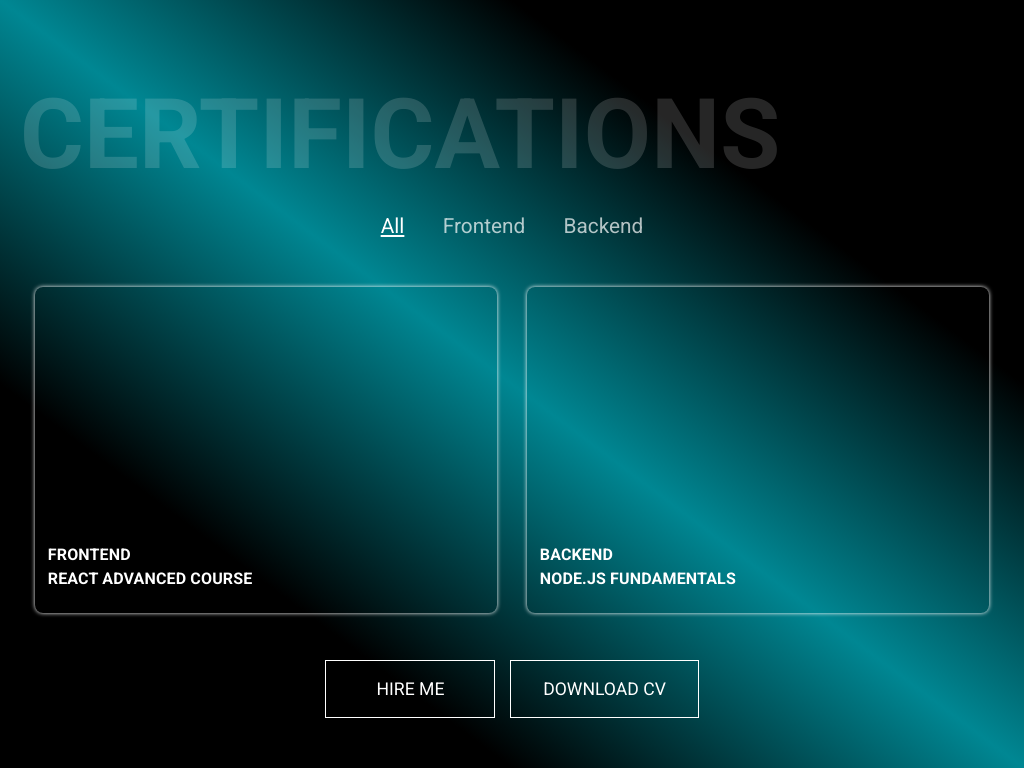
Scenario: Certificates page › модалка Hire Me › открывает модалку по клику на "Hire Me"
The image size is (1024, 768).
Click the button "Hire Me". click: (410, 689)
box: [326,660,496,718]
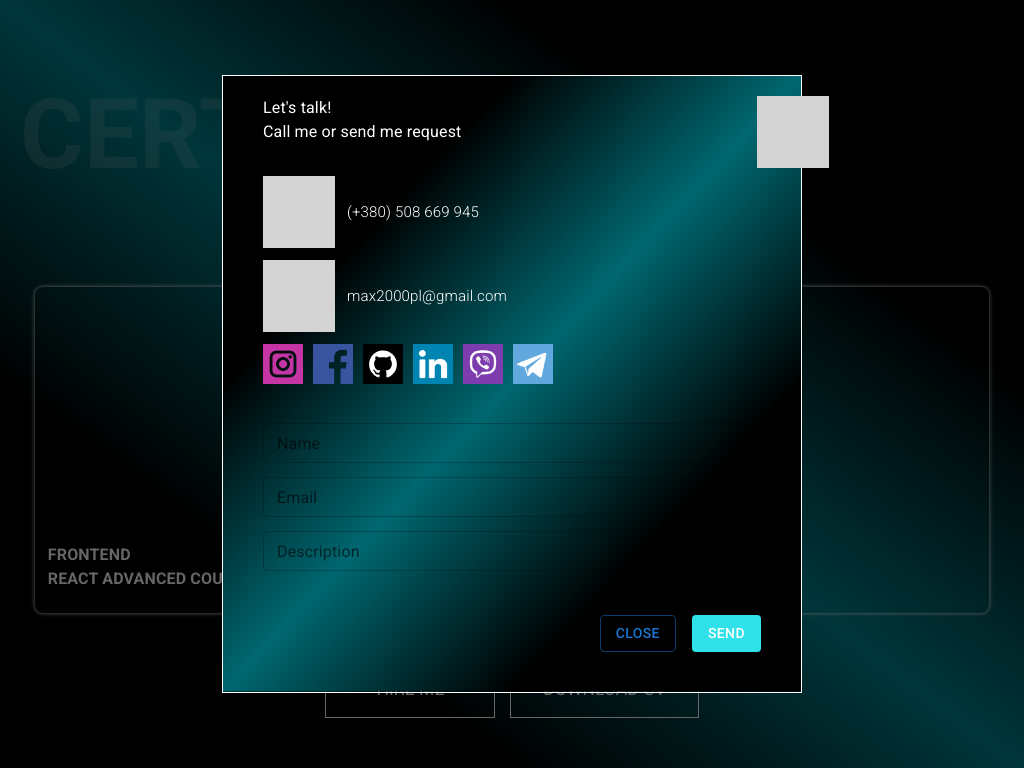
expect the text "Let's talk!" is shown: met, box [263,98,332,118]
